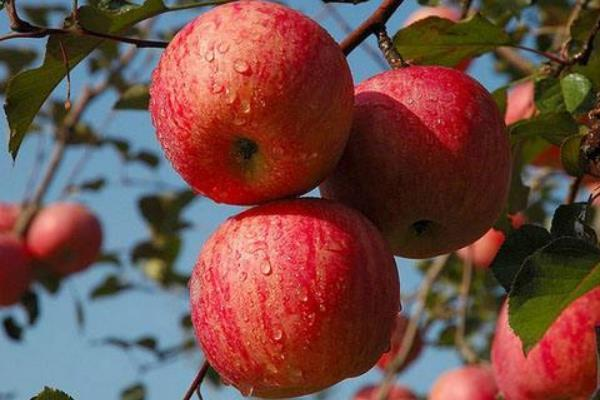apple: (186, 190, 397, 400), (145, 1, 348, 205), (332, 66, 508, 294)
